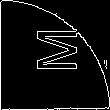M_W: (30, 32, 80, 78)
